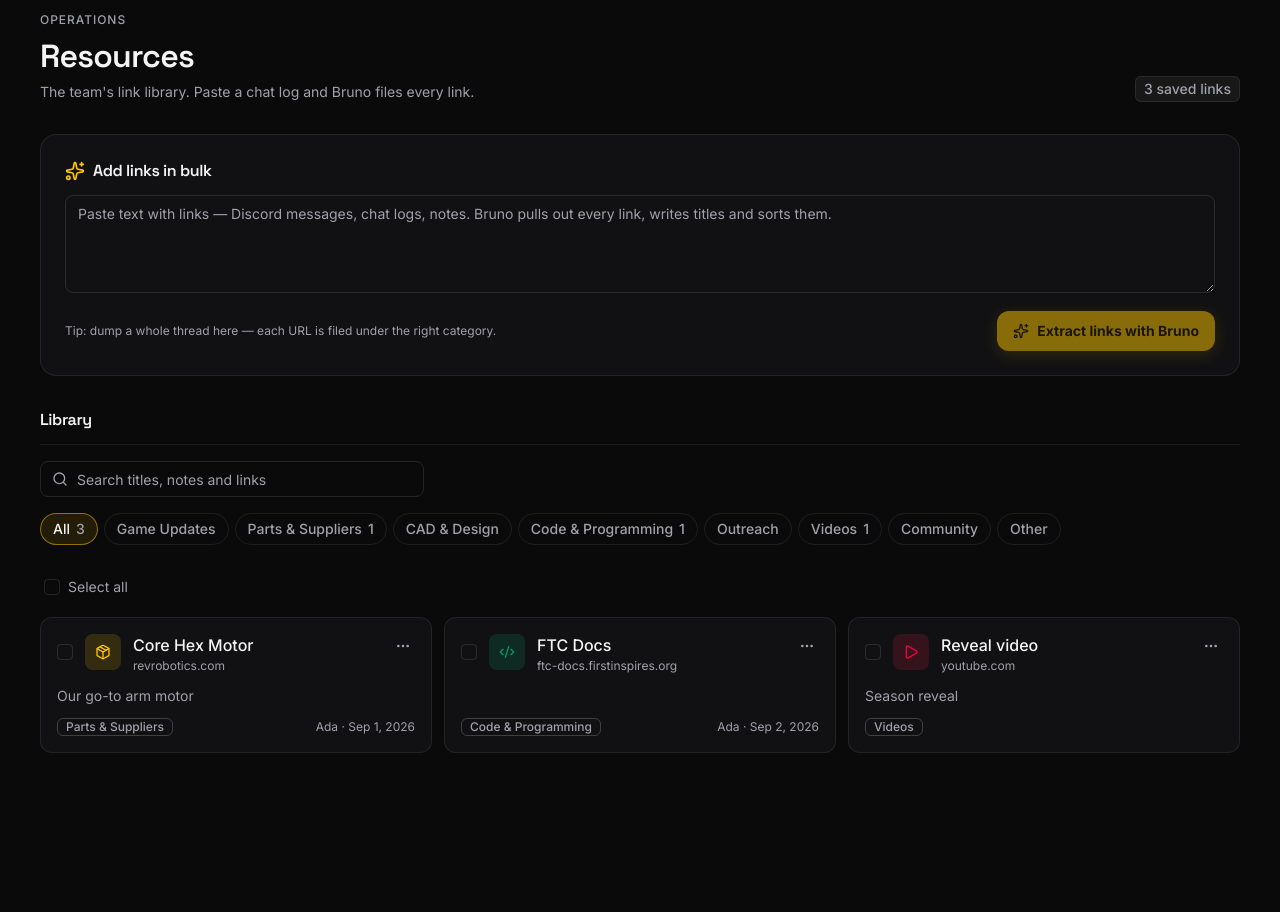
it: Modern Resources › leaves out links the library already has and lists them
The width and height of the screenshot is (1280, 912).
Expected: the link "Core Hex Motor" is shown, [133,635,254,655]
Replace the text in the text box labelled "text with links" with "links". click: point(640, 244)
box: [65,195,1215,293]
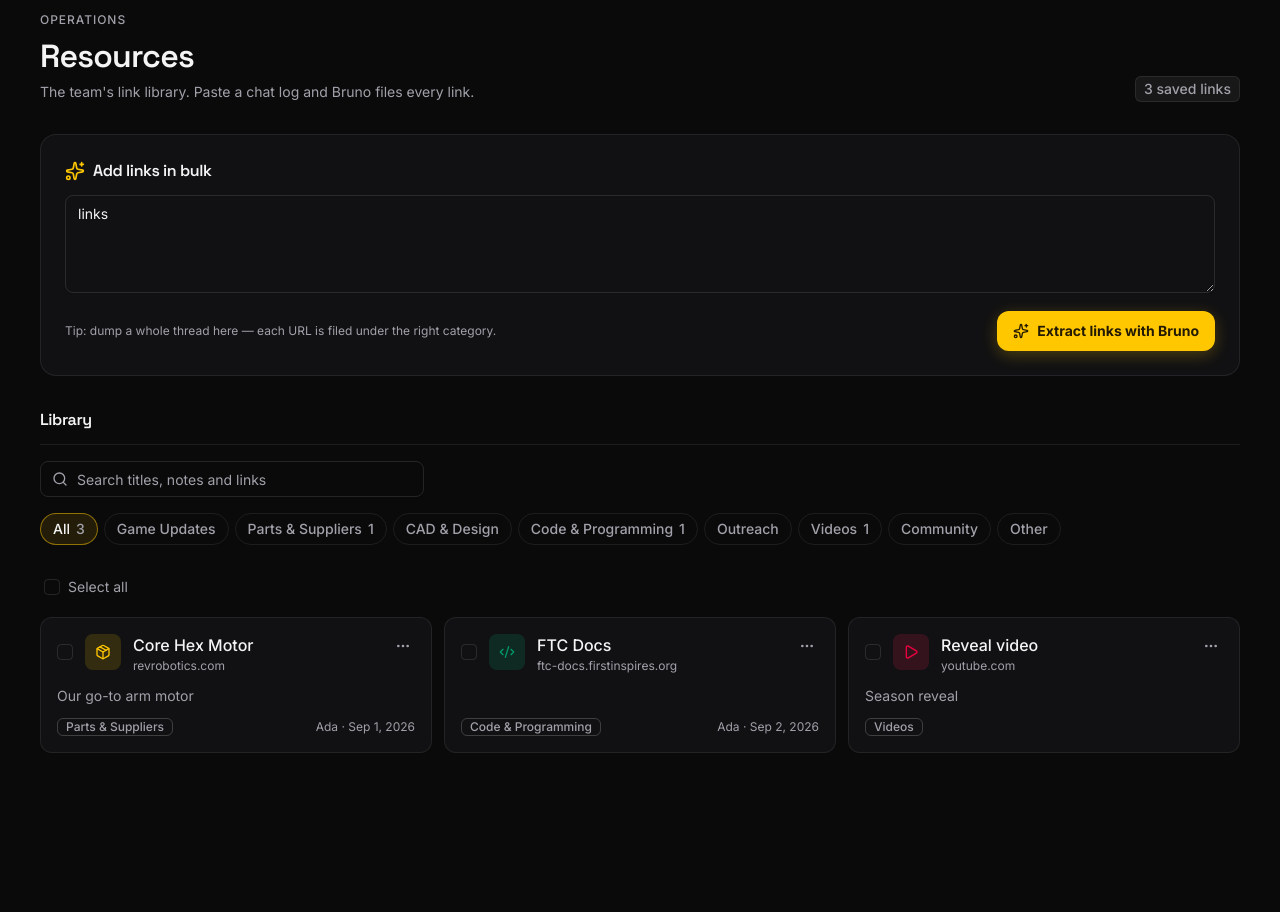
Click the button "Extract links with Bruno". click: point(1106, 331)
box: [997,311,1215,351]
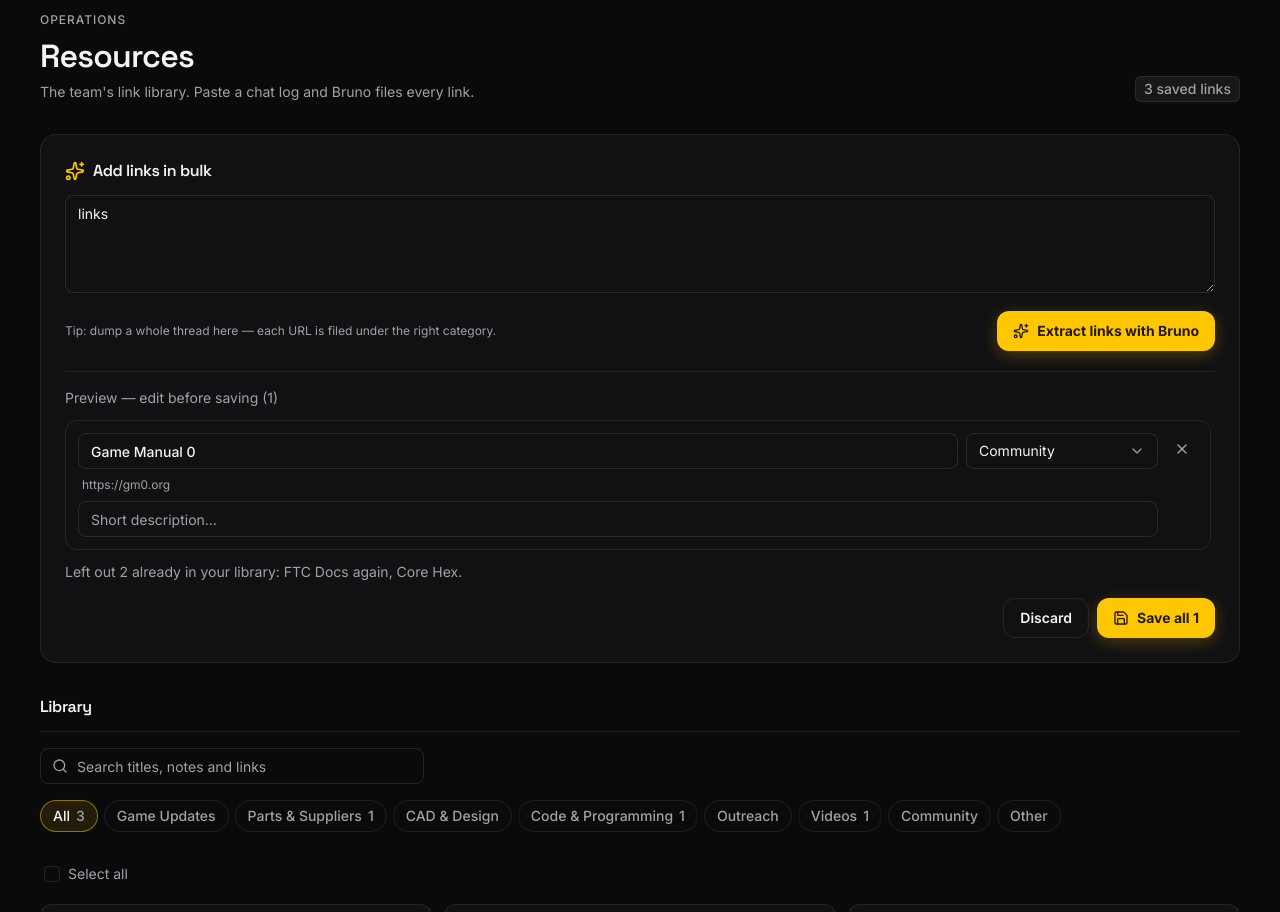
Expected: the text "Preview — edit before saving (1)" is shown, [65,389,278,406]
Expected: the text "Left out 2 already in your library: FTC Docs again, Core Hex" is shown, [65,563,462,580]
Expected: the button "Save all 1" is shown, [1097,598,1215,638]
